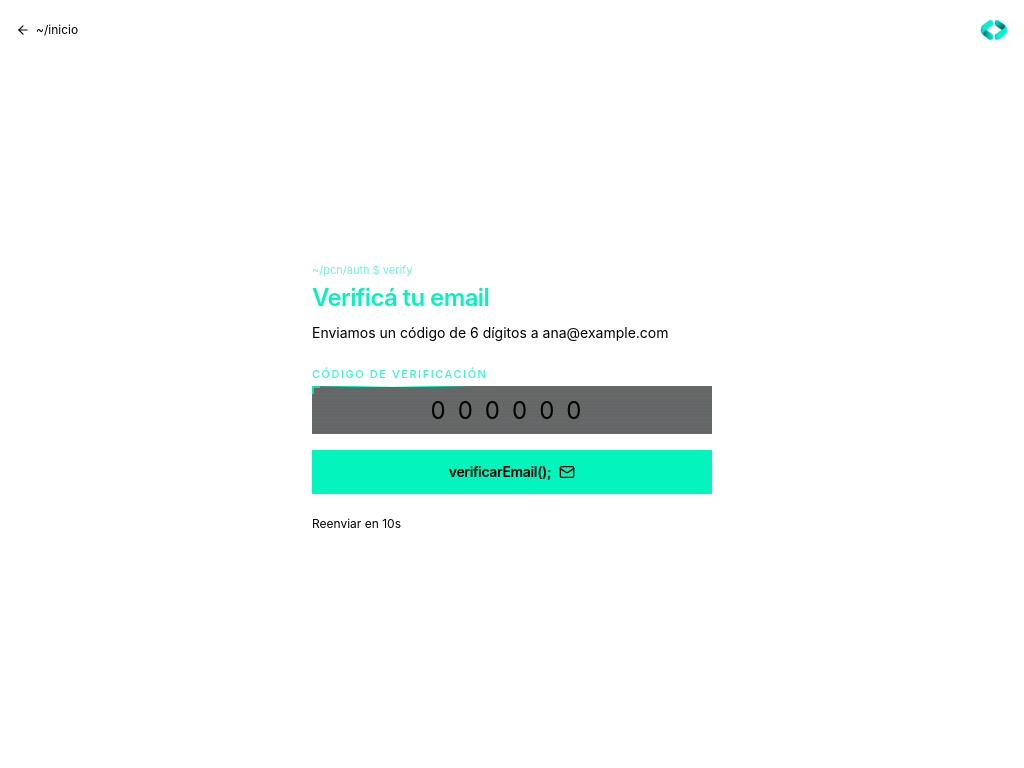
Test: VerifyEmailPage › verifies the code and redirects after a pause
The image size is (1024, 768).
Type "123456" into the field labelled "Código de verificación".
click(512, 410); type("123456")  # box [312,386,712,434]
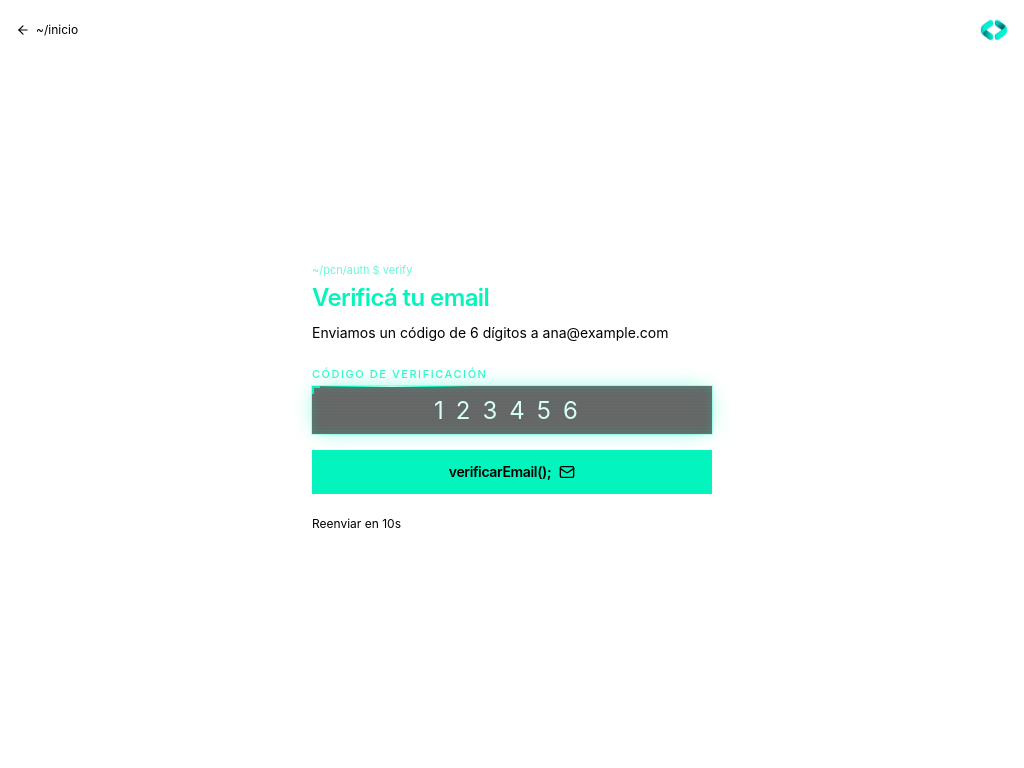
Click the button "verificarEmail();".
click(512, 472)  # box [312,450,712,494]
Wait 1500 ms
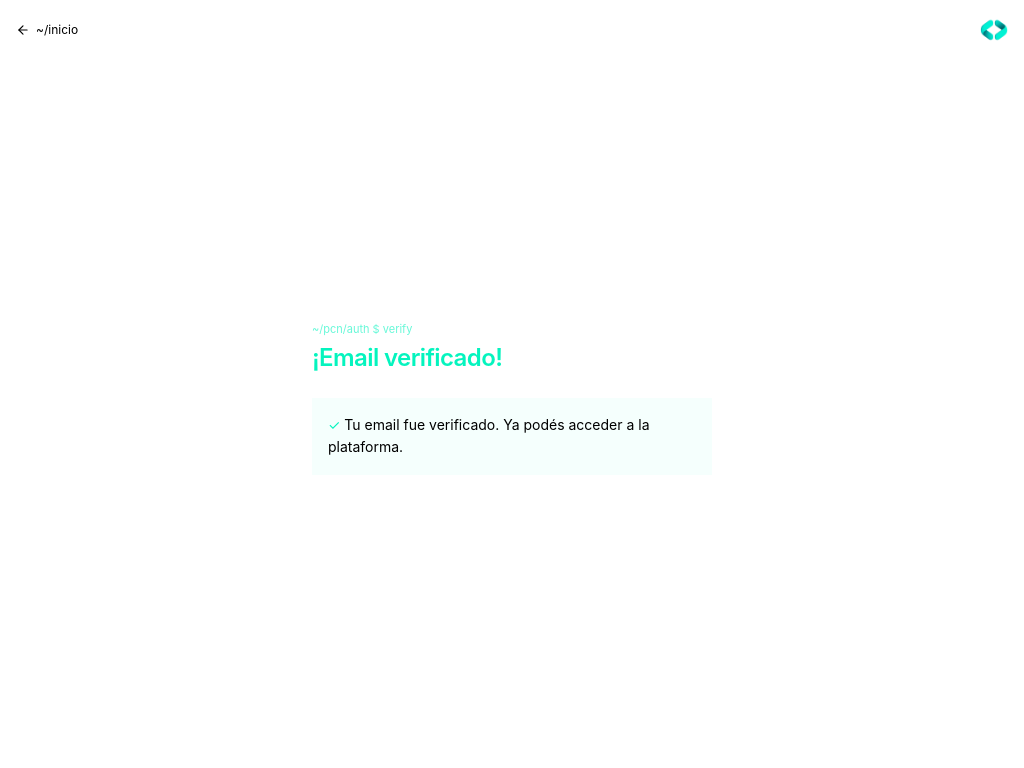
Result: the heading "¡Email verificado!" is shown at [312,342,502,372]
